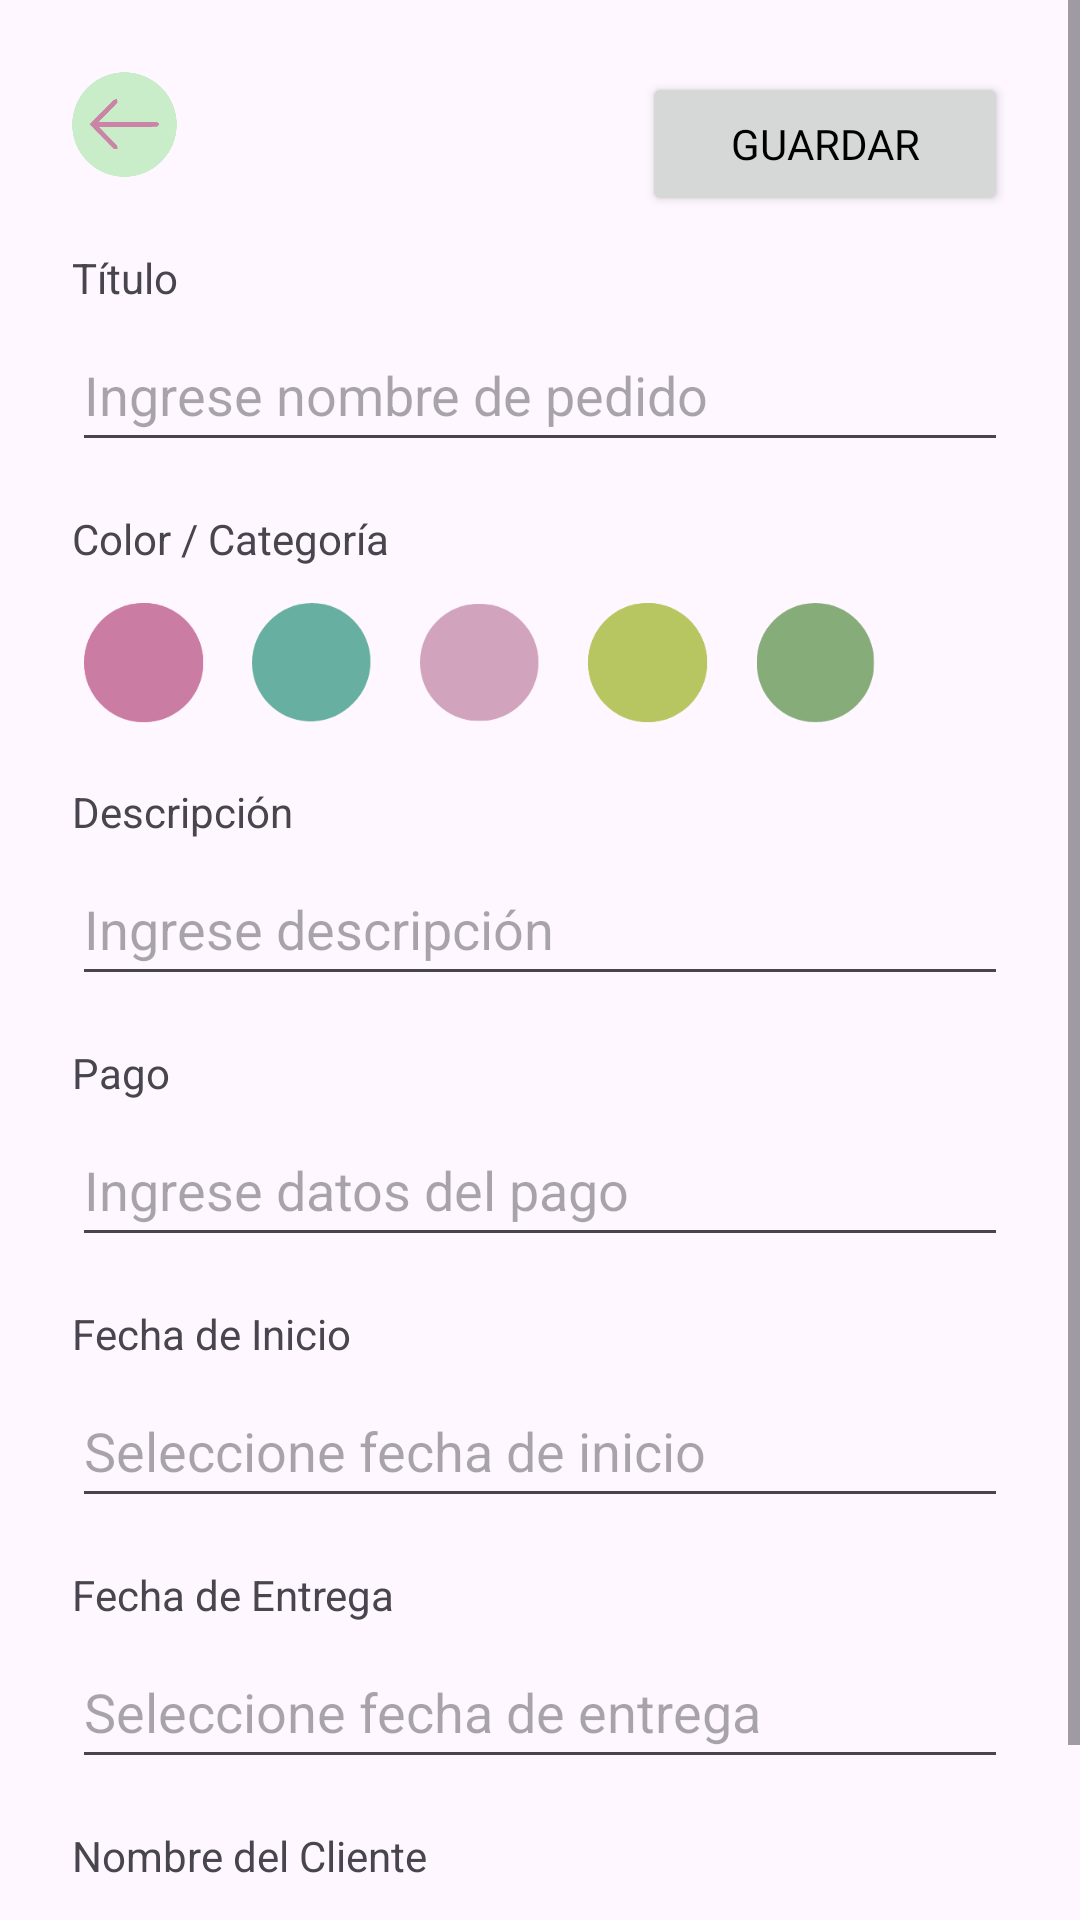

Named icons in this screenshot (1080x1920) and their bounding boxes, (x1, y1, x2, y2):
boton: (72, 72, 177, 177)
